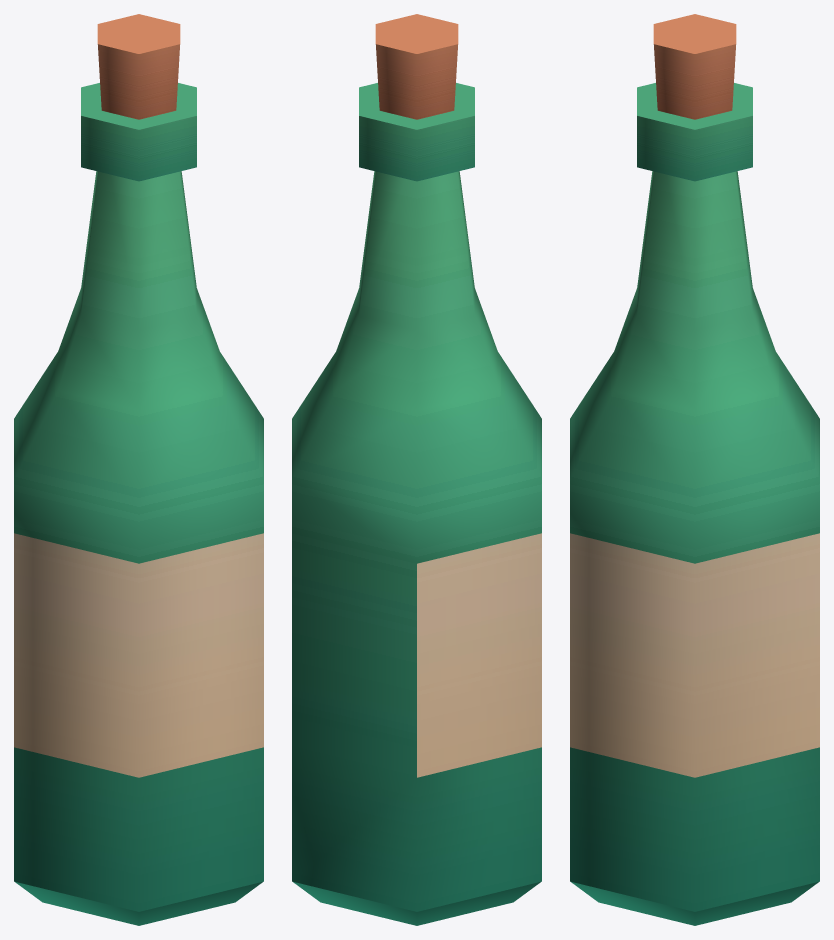
Rendered from wine-white.glb.
The picture shows the model from 3 angles, left to right: view 1: azimuth 30°, elevation 25°; view 2: azimuth 150°, elevation 25°; view 3: azimuth 270°, elevation 25°; orthographic projection.
Visible parts, largest first — view 1: wine-white; view 2: wine-white; view 3: wine-white.
Part boxes in pixels (x1=…): wine-white: x1=14, y1=14, x2=263, y2=925; wine-white: x1=292, y1=14, x2=541, y2=925; wine-white: x1=570, y1=14, x2=819, y2=925.
Size of the model in its own units: 0.2028 by 0.6556 by 0.1756.
1 material, 1 textured.
